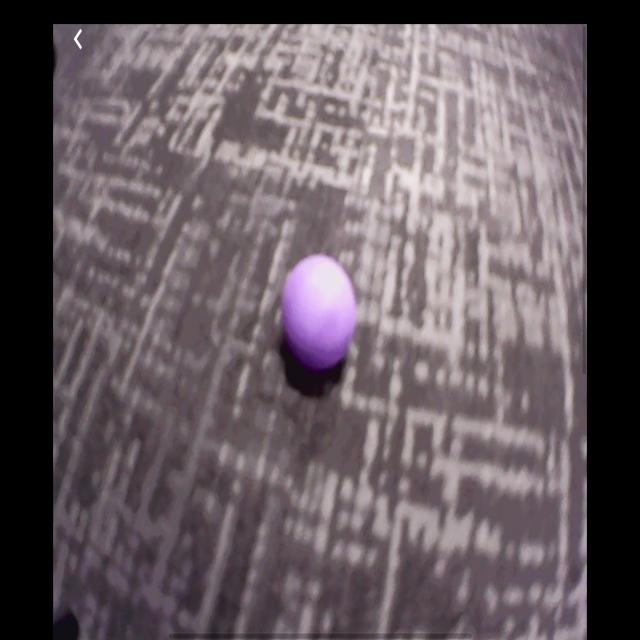ball: (282, 253, 359, 373)
